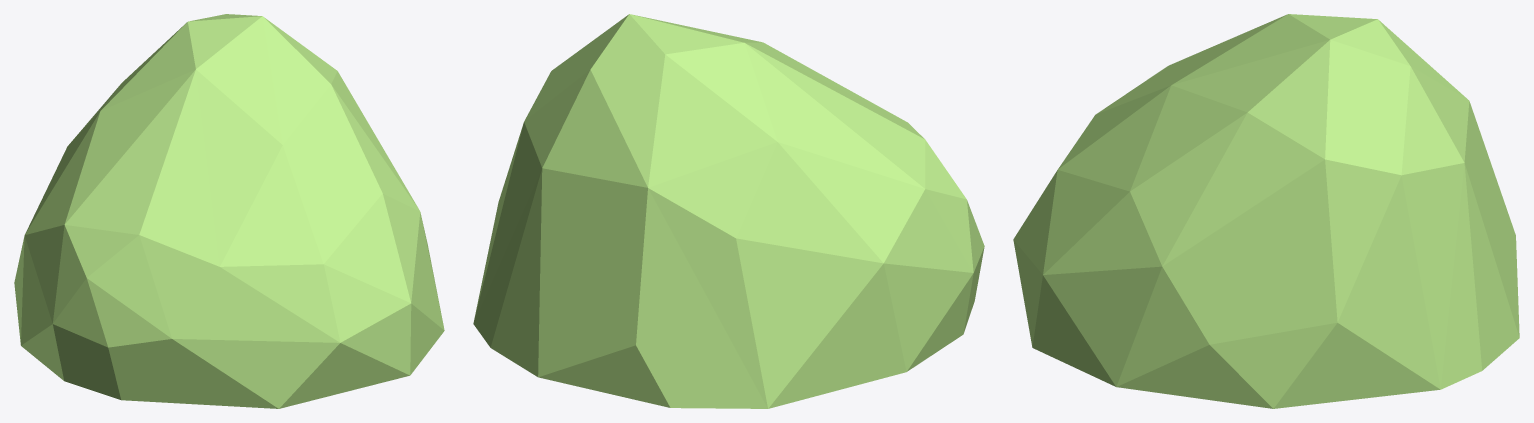
File: Bush_b_l_05.fbx
3 views of the same model, side by side, from view 1: azimuth 30°, elevation 25°; view 2: azimuth 150°, elevation 25°; view 3: azimuth 270°, elevation 25° (orthographic). The views are drawn at different scales.
Visible parts, largest first — view 1: Bush_b_l_05; view 2: Bush_b_l_05; view 3: Bush_b_l_05.
Part boxes in pixels (x1=…): Bush_b_l_05: x1=14, y1=14, x2=444, y2=408; Bush_b_l_05: x1=473, y1=14, x2=984, y2=408; Bush_b_l_05: x1=1013, y1=14, x2=1519, y2=408.
Bounding box in the file's own units: 238 × 157 × 240.
